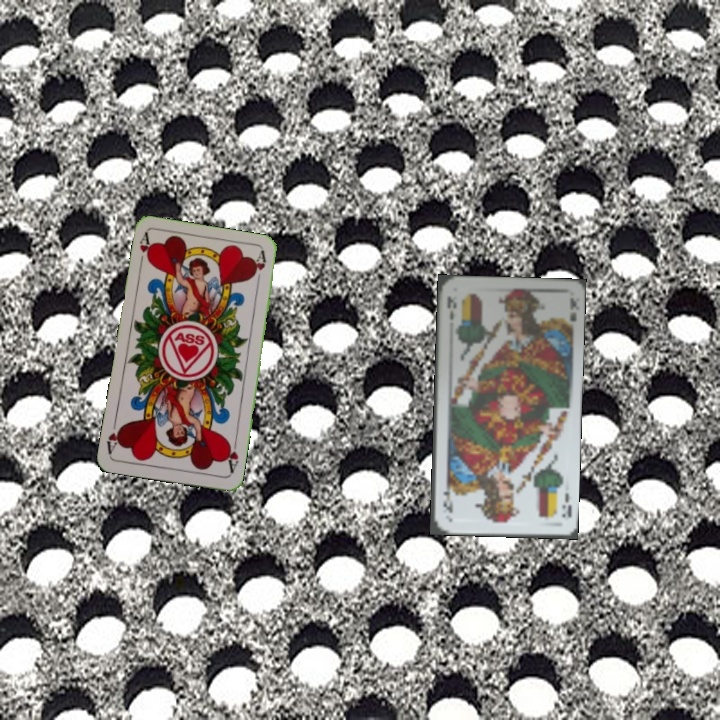EK: (557, 488, 574, 521), (443, 292, 459, 323)
HA: (135, 230, 155, 270), (222, 436, 241, 476)
